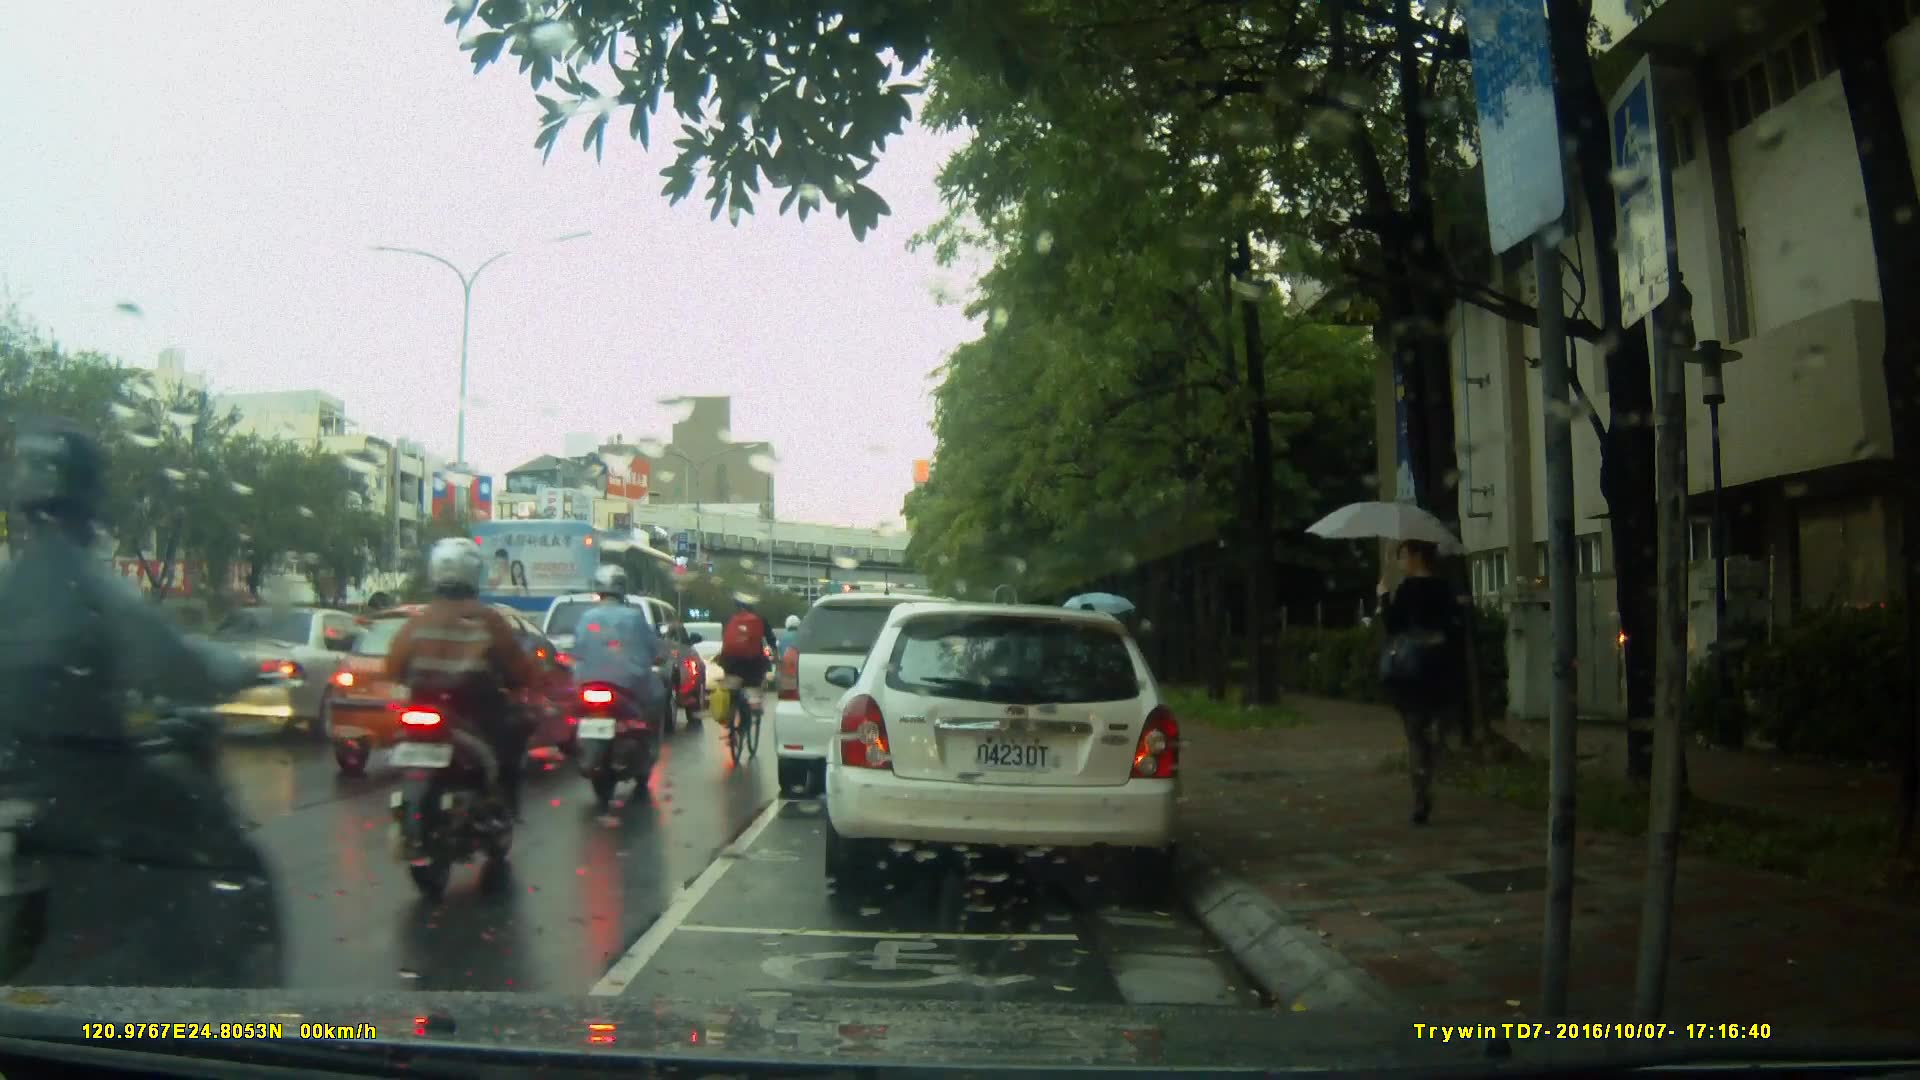pedestrian: (1360, 539, 1487, 831)
rider: (1, 435, 292, 1061), (377, 534, 547, 887), (575, 569, 674, 803), (717, 596, 784, 768)
vehicle: (835, 594, 1194, 898), (318, 602, 593, 782), (776, 590, 1026, 784), (464, 515, 700, 671), (171, 605, 411, 745), (519, 590, 707, 721)
